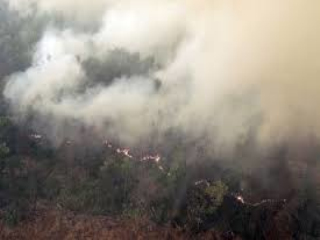fire: (101, 139, 176, 172), (232, 193, 251, 207)
smoke: (9, 45, 198, 137)
